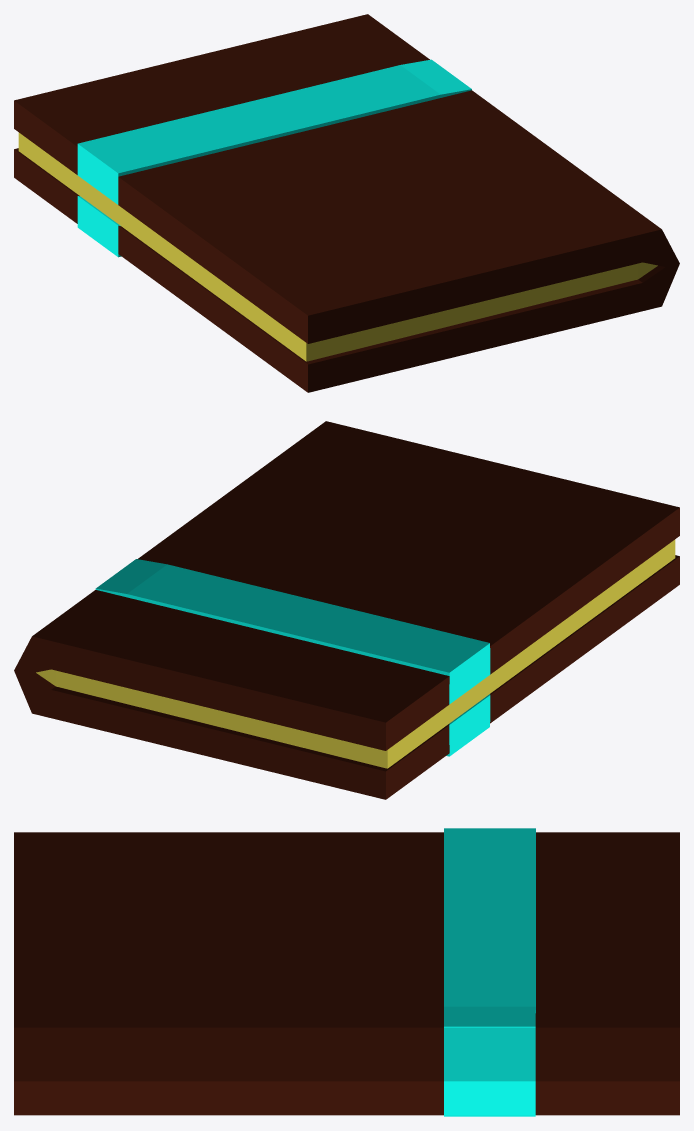
Rendered from Notebook 7.fbx.
3 views of the same model, one above another, from view 1: azimuth 30°, elevation 25°; view 2: azimuth 150°, elevation 25°; view 3: azimuth 270°, elevation 25° (orthographic). The views are drawn at different scales.
Parts seen in each view (by area): view 1: Node 0; view 2: Node 0; view 3: Node 0.
Boxes of the visible parts, x1,y1,x2,y2 form: Node 0: (14, 14, 679, 392); Node 0: (14, 421, 679, 799); Node 0: (14, 828, 679, 1116).
Size of the model in its own units: 0.2681 by 0.0422 by 0.1957.
